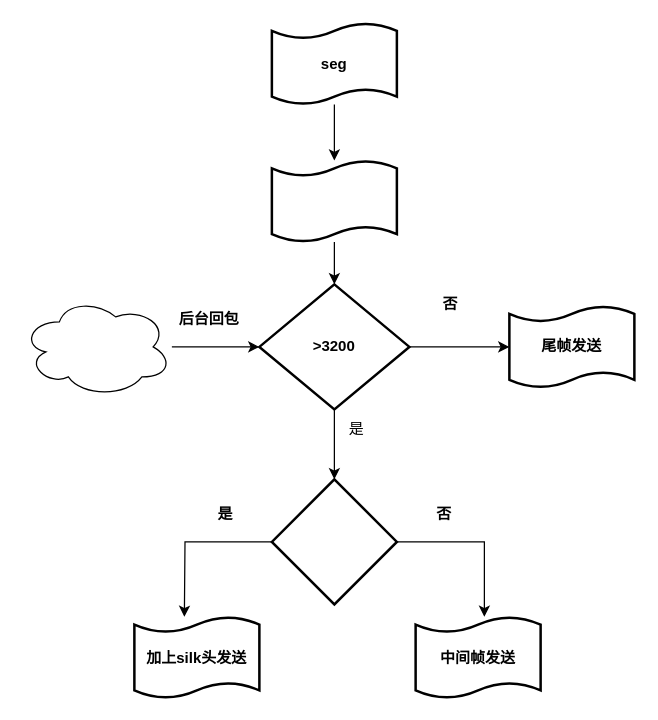
Image size: 658x720. Some labels were removed from this diagram. The box of each missing label's shape, as (x1, y1, x2, y2) in pixels:
seekto btm: (270, 159, 398, 242)
是否首帧: (270, 478, 398, 605)
